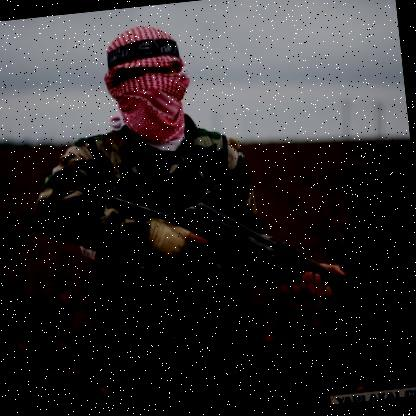rifle: (85, 152, 416, 372)
